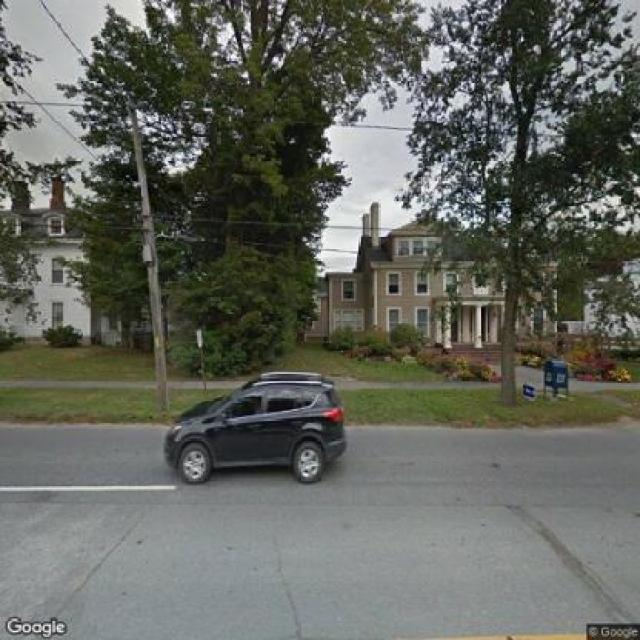pole: (110, 100, 179, 411)
